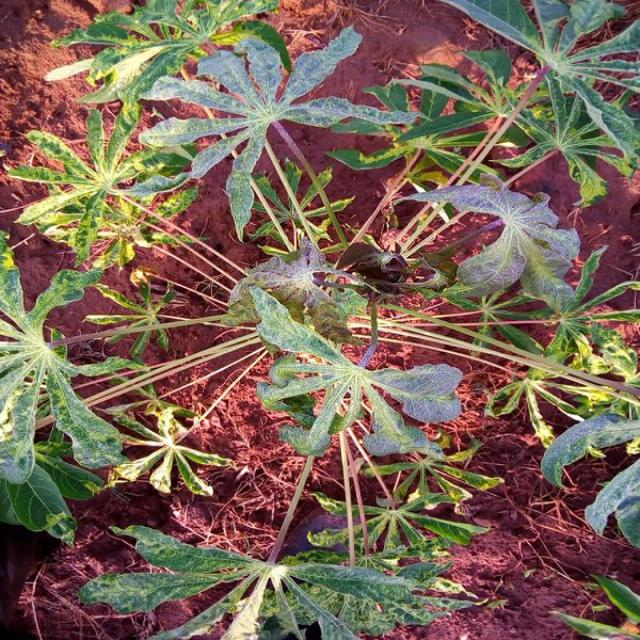cassava leaf: (136, 21, 418, 242), (248, 282, 463, 458), (393, 170, 581, 312)
